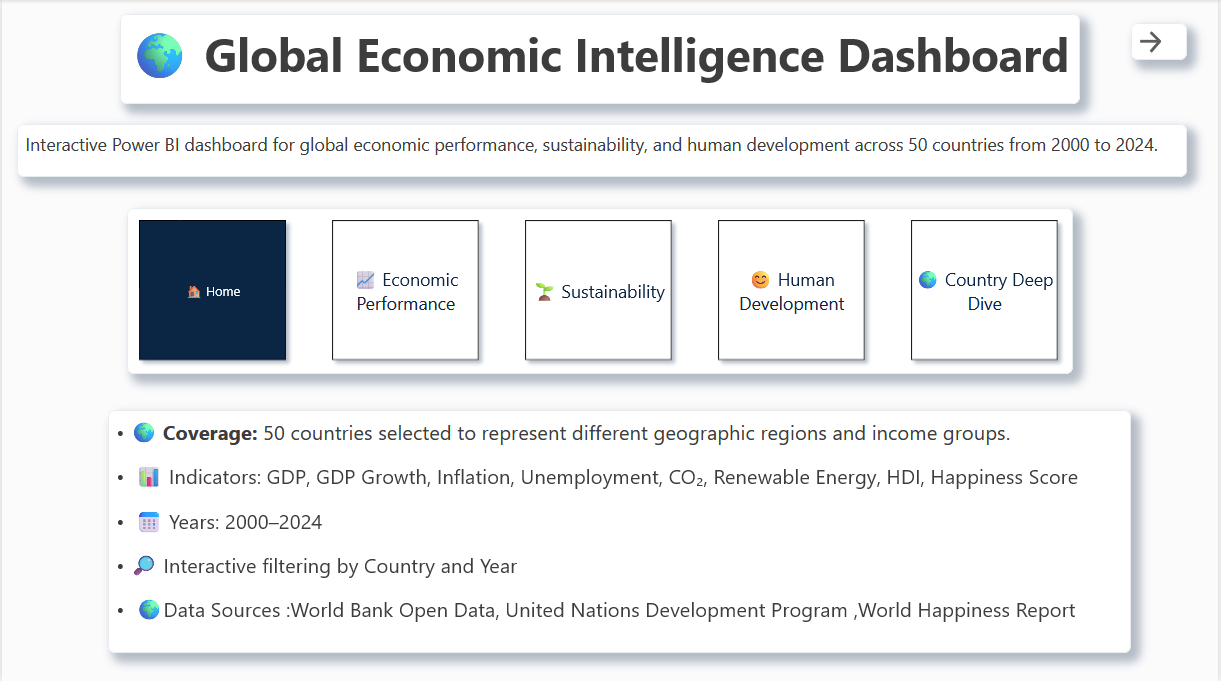

The page's visual inventory and layout, read from the dashboard file:
{"tool":"powerbi","page":{"name":"🏠 Home","canvas":[1280,720],"ordinal":0},"visuals":[{"type":"textbox","box":[124.3,16.4,1011.1,94.3],"z":0},{"type":"pageNavigator","box":[131.2,220,996.1,174.9],"z":1000},{"type":"textbox","box":[16.4,131.2,1231.1,56],"z":2000},{"type":"textbox","box":[112,433.1,1076.7,255.5],"z":3000},{"type":"actionButton","box":[1188.7,24.6,58.8,39.6],"z":5000}]}

Visuals, with their boxes in screenshot pixels (x1, y1, x2, y2), scaled from the page's 1280x720 canvas onto the 1221x681 screenshot:
textbox: region(119, 16, 1083, 105)
pageNavigator: region(125, 208, 1075, 374)
textbox: region(16, 124, 1190, 177)
textbox: region(107, 410, 1134, 651)
actionButton: region(1134, 23, 1190, 61)
